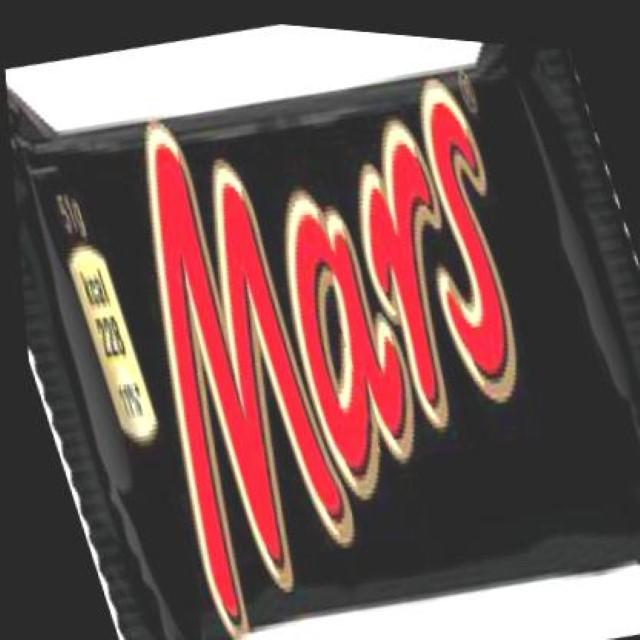mars_chocolate: (38, 119, 640, 611)
